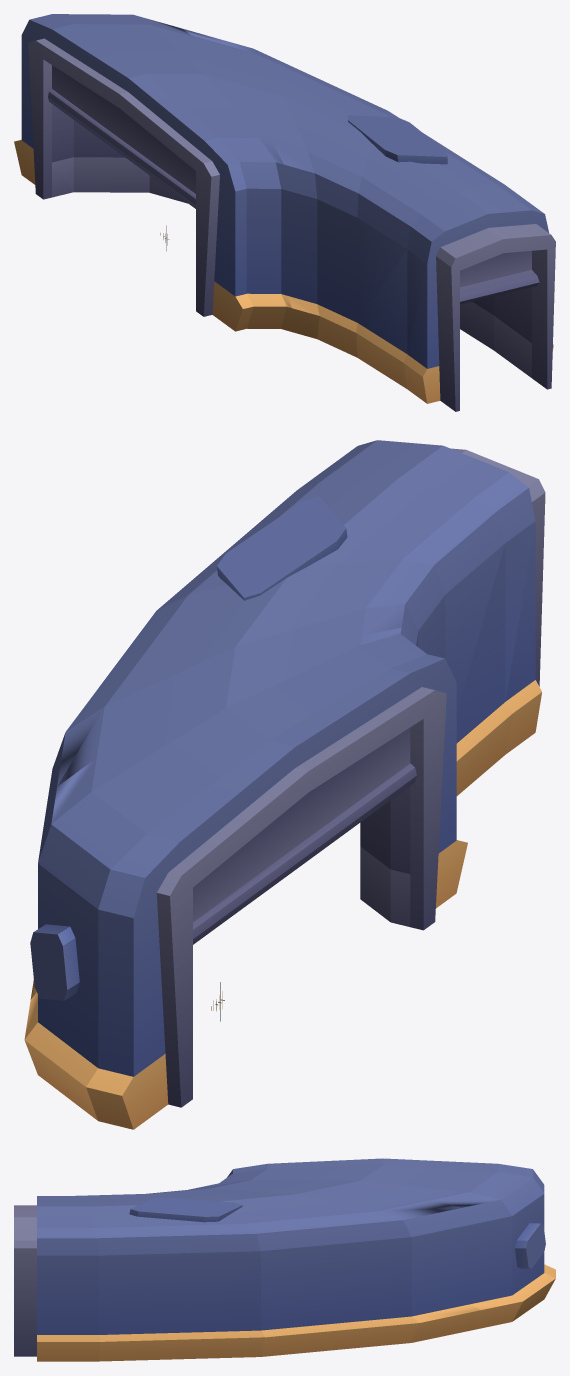
The model's file is sand3-rooftop-antenna-col.glb.
The picture shows the model from 3 angles, top to bottom: view 1: azimuth 30°, elevation 25°; view 2: azimuth 150°, elevation 25°; view 3: azimuth 270°, elevation 25°; orthographic projection. The views are drawn at different scales.
Visible parts, largest first — view 1: sand3-rooftop-antenna-col; view 2: sand3-rooftop-antenna-col; view 3: sand3-rooftop-antenna-col.
Part boxes in pixels (x1=…): sand3-rooftop-antenna-col: x1=14, y1=14, x2=555, y2=411; sand3-rooftop-antenna-col: x1=24, y1=440, x2=545, y2=1129; sand3-rooftop-antenna-col: x1=14, y1=1158, x2=555, y2=1361.
Bounding box in the file's own units: 1.32 × 1.2 × 4.
3 materials, 1 textured.
